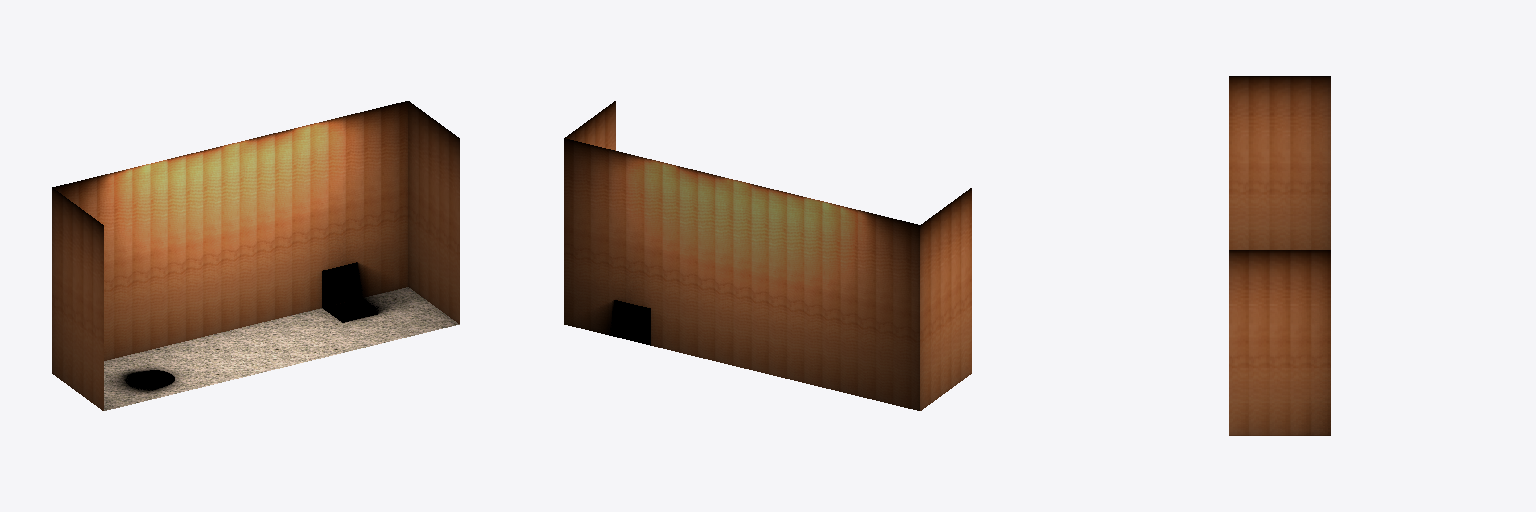
3 renders of one model, left to right at view 1: azimuth 30°, elevation 25°; view 2: azimuth 150°, elevation 25°; view 3: azimuth 270°, elevation 25°, orthographic.
Parts seen in each view (by area): view 1: Plane, Plane.001, Plane.003, Plane.002; view 2: Plane, Plane.003, Plane.002; view 3: Plane.002, Plane.003.
Boxes of the visible parts, x1=… form: Plane: x1=52, y1=101, x2=407, y2=360; Plane.001: x1=104, y1=287, x2=459, y2=410; Plane.003: x1=52, y1=188, x2=103, y2=410; Plane.002: x1=408, y1=101, x2=459, y2=323; Plane: x1=564, y1=138, x2=919, y2=410; Plane.003: x1=920, y1=188, x2=971, y2=410; Plane.002: x1=565, y1=101, x2=615, y2=150; Plane.002: x1=1229, y1=250, x2=1330, y2=435; Plane.003: x1=1229, y1=76, x2=1330, y2=249.
Size of the model in its own units: 20 by 10 by 5.
Materials: 2 (1 with a texture image).